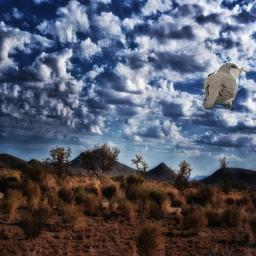Cuckoo: (202, 62, 246, 111)
